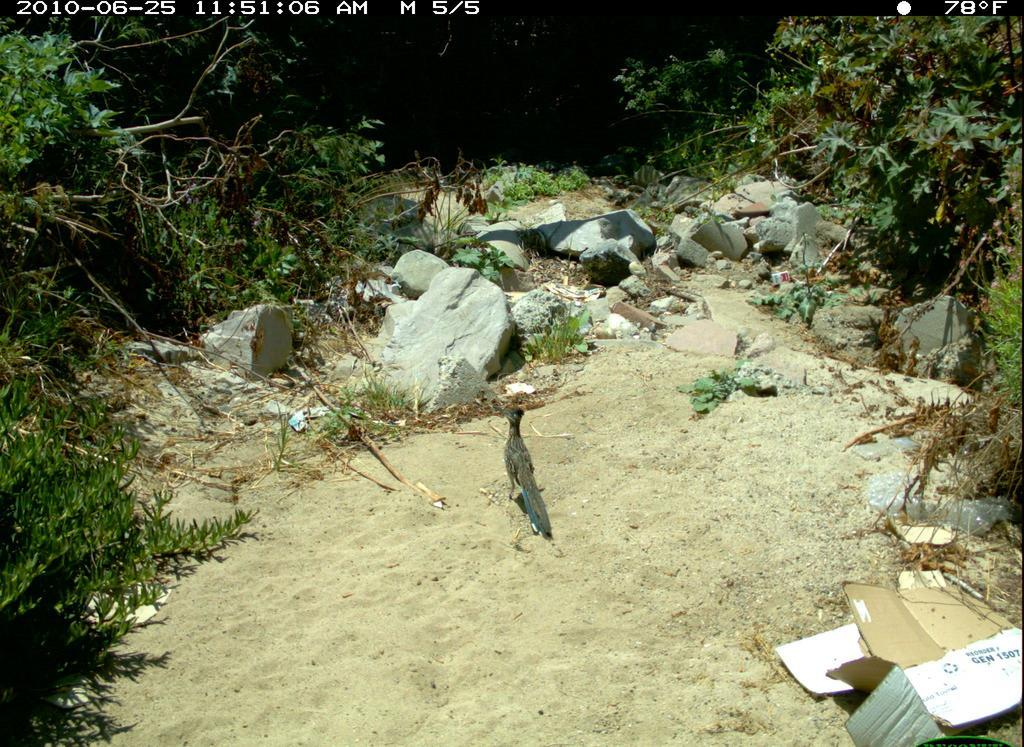bird: (488, 385, 569, 556)
